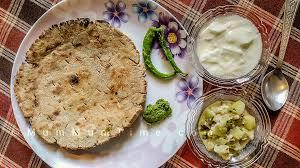bhakri: (11, 20, 148, 147)
yogurt: (201, 14, 262, 78)
